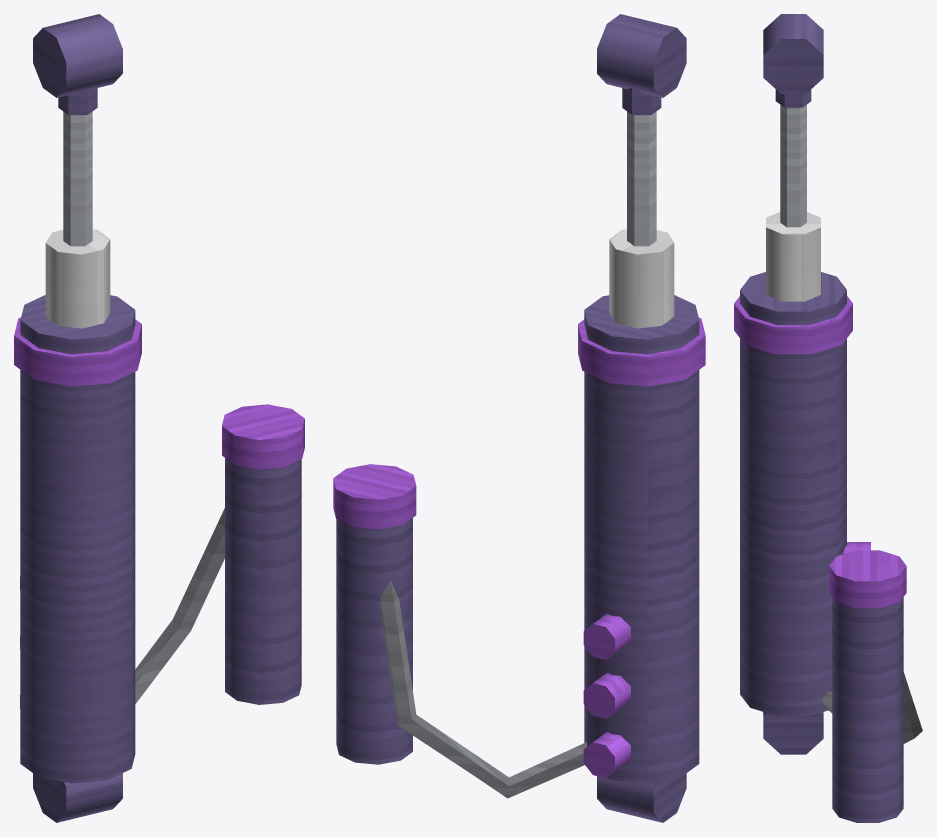
The model's file is amortecedores_n5.glb.
3 views of the same model, side by side, from view 1: azimuth 30°, elevation 25°; view 2: azimuth 150°, elevation 25°; view 3: azimuth 270°, elevation 25° (orthographic). The views are drawn at different scales.
Visible parts, largest first — view 1: amortecedores_n5; view 2: amortecedores_n5; view 3: amortecedores_n5.
Boxes of the visible parts, left/top/right/bottom form: amortecedores_n5: left=14, top=14, right=304, bottom=822; amortecedores_n5: left=333, top=14, right=705, bottom=822; amortecedores_n5: left=734, top=14, right=922, bottom=822.
Bounding box in the file's own units: 0.2228 × 0.5307 × 0.1269.
Materials: 3 (3 with a texture image).
